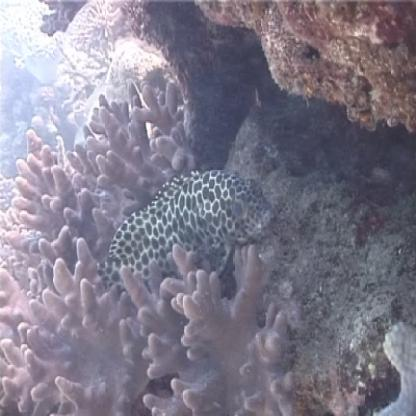grouper: (98, 168, 271, 305)
